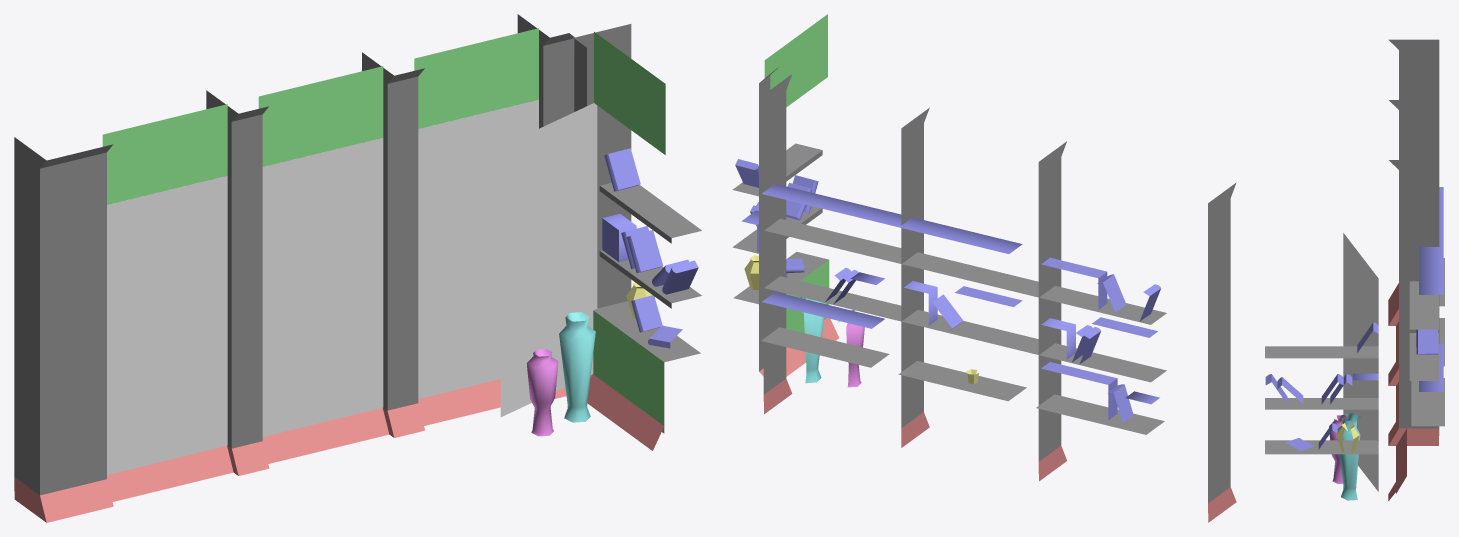
The model's file is interior_B_delf_store_02.gltf.
3 views of the same model, side by side, from view 1: azimuth 30°, elevation 25°; view 2: azimuth 150°, elevation 25°; view 3: azimuth 270°, elevation 25° (orthographic). The views are drawn at different scales.
Parts seen in each view (by area): view 1: interior_B_delf_store_02; view 2: interior_B_delf_store_02; view 3: interior_B_delf_store_02.
Boxes of the visible parts, x1,y1,x2,y2 form: interior_B_delf_store_02: (14,14,701,522); interior_B_delf_store_02: (732,14,1236,522); interior_B_delf_store_02: (1265,39,1444,500).
Bounding box in the file's own units: 2.65 × 1.59 × 0.8992.
